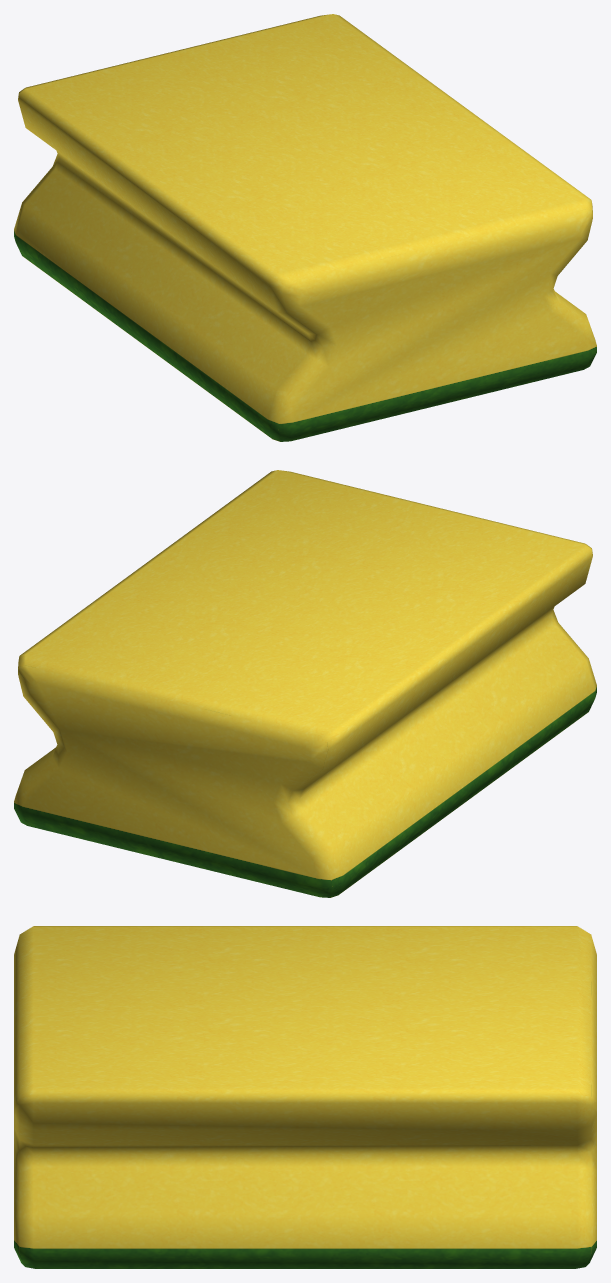
File: Sponge.fbx
The picture shows the model from 3 angles, top to bottom: view 1: azimuth 30°, elevation 25°; view 2: azimuth 150°, elevation 25°; view 3: azimuth 270°, elevation 25°; orthographic projection. The views are drawn at different scales.
Visible parts, largest first — view 1: Sponge; view 2: Sponge; view 3: Sponge.
Part boxes in pixels (box(x1,y1,x2,y2)): Sponge: box(14, 14, 596, 441); Sponge: box(14, 470, 596, 897); Sponge: box(14, 926, 596, 1268).
Bounding box in the file's own units: 7 × 3.5 × 10.
